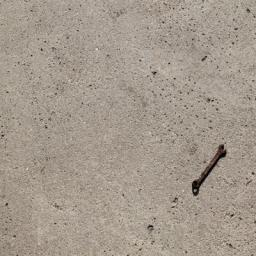FOD: (184, 138, 234, 196)
